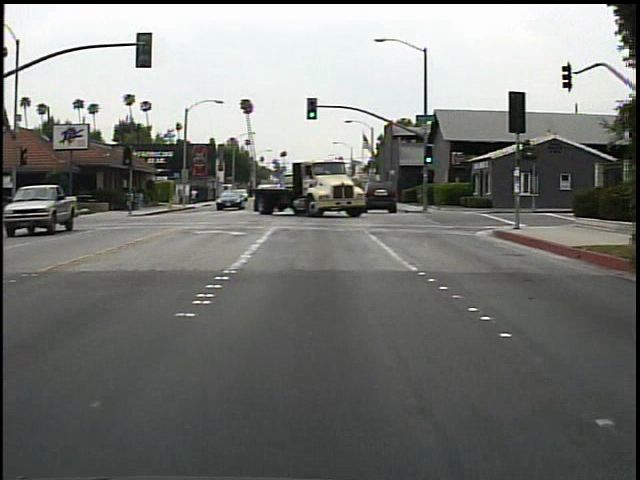person: (190, 185, 202, 207)
